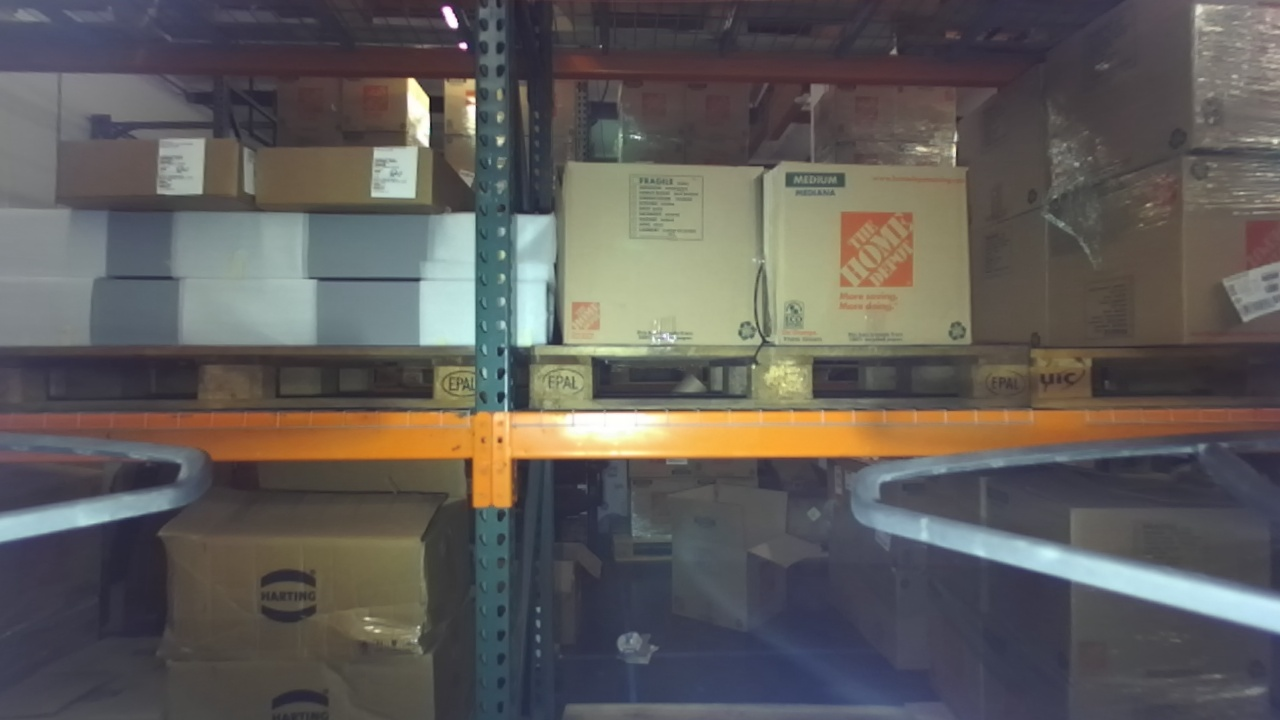box: (138, 478, 475, 675), (549, 138, 784, 375), (753, 130, 969, 353), (40, 127, 270, 210), (253, 135, 458, 210)
